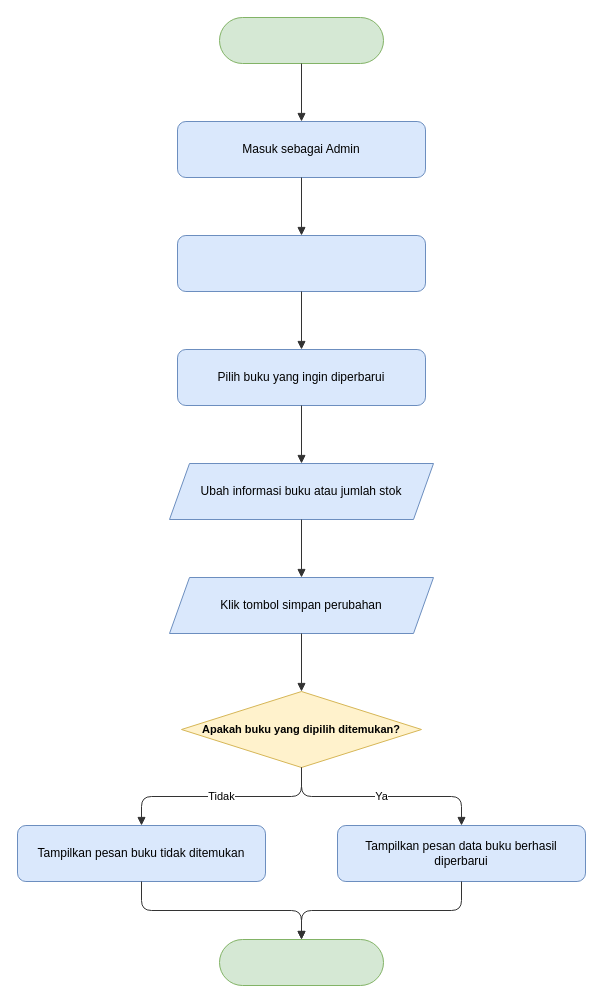
This 603x1003 diagram has some shape labels left out. The box of each missing label's shape, as (x1, y1, x2, y2) in pixels:
Buka menu katalog buku: (176, 234, 426, 292)
Mulai: (218, 16, 384, 64)
Selesai: (218, 938, 384, 986)
